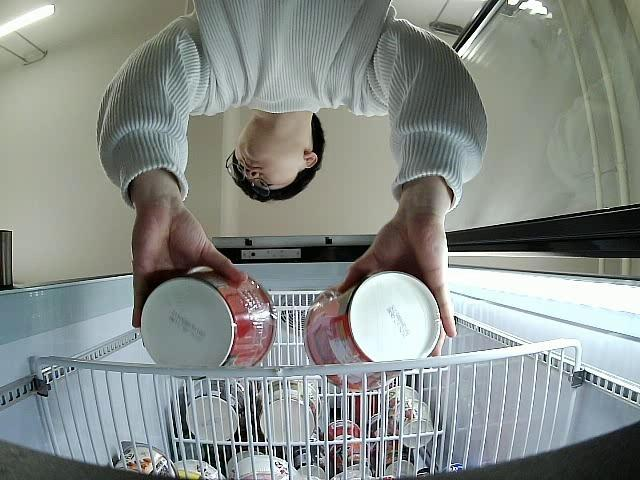01_ShinRamen_L: (308, 272, 442, 389), (142, 268, 277, 378)
